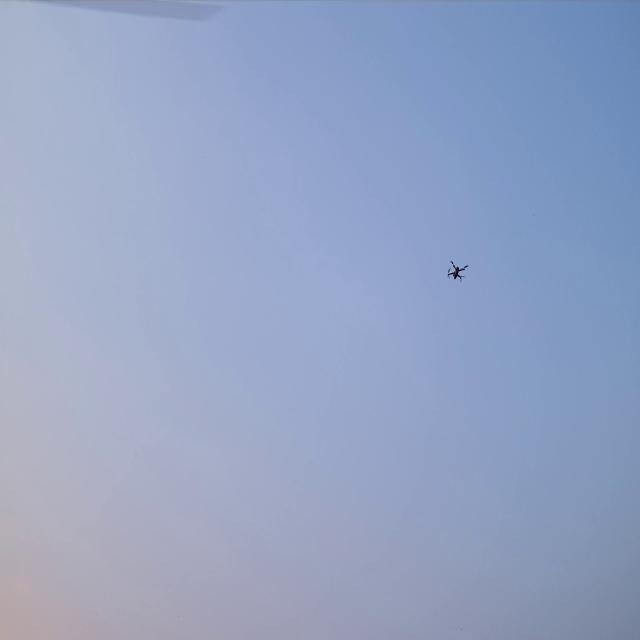UAV: (446, 257, 470, 284)
